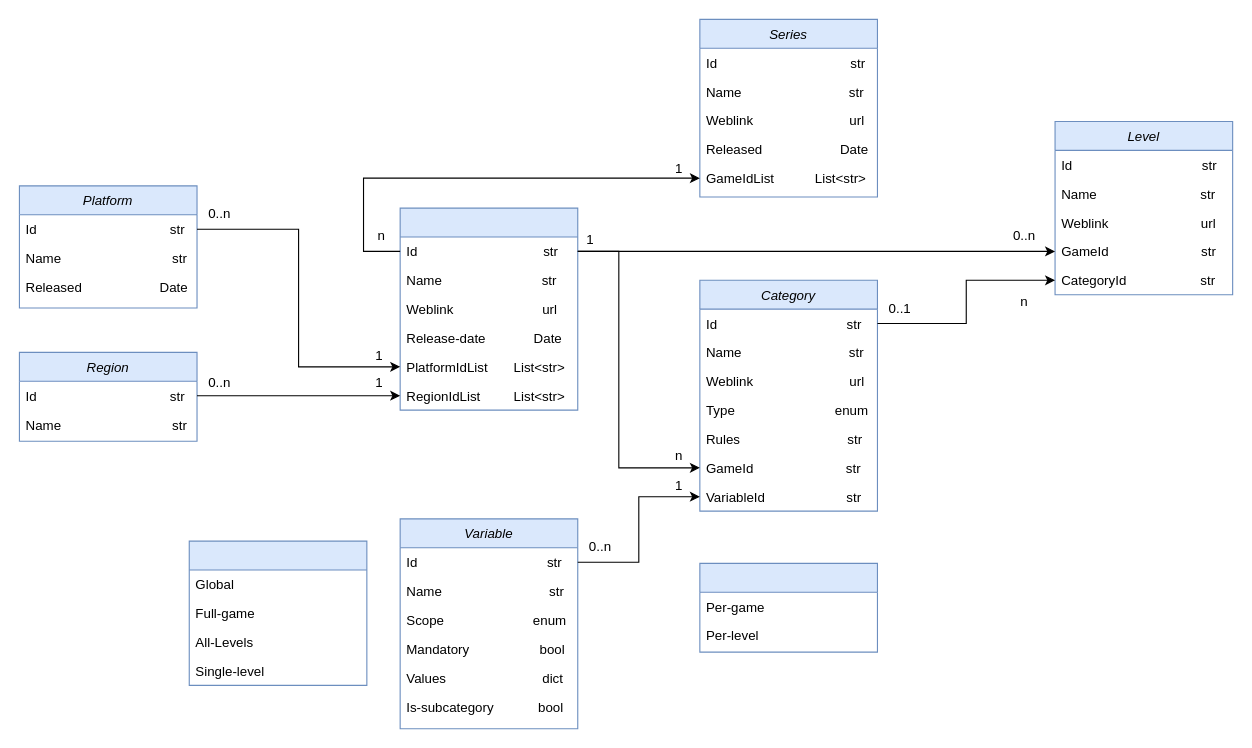
Image size: 1252x748. Some labels were removed from this diagram. Each missing label, with the box of its shape:
Game: (399, 207, 578, 410)
Scope: (188, 540, 367, 685)
Type: (699, 562, 877, 652)
